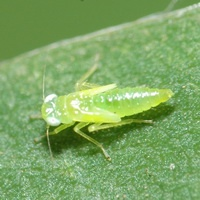insect: (41, 54, 172, 160)
